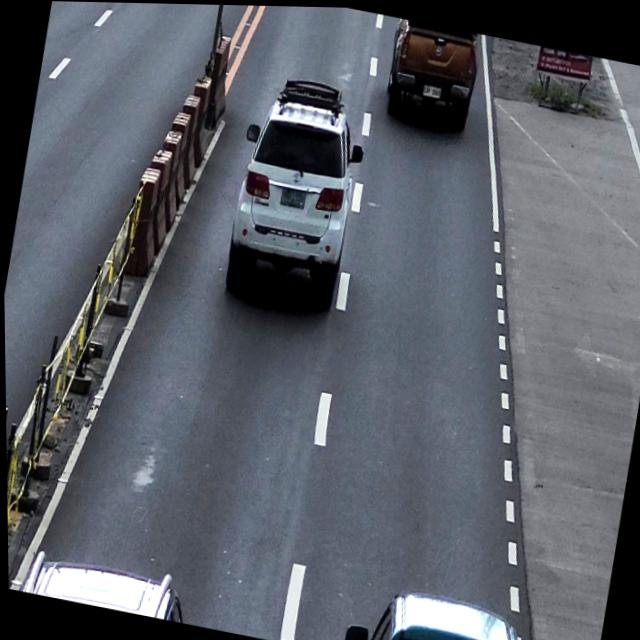Car: (216, 65, 376, 316), (19, 545, 190, 623), (337, 578, 551, 640), (379, 16, 483, 134)
License-Plate: (277, 182, 308, 211), (420, 80, 442, 98)
